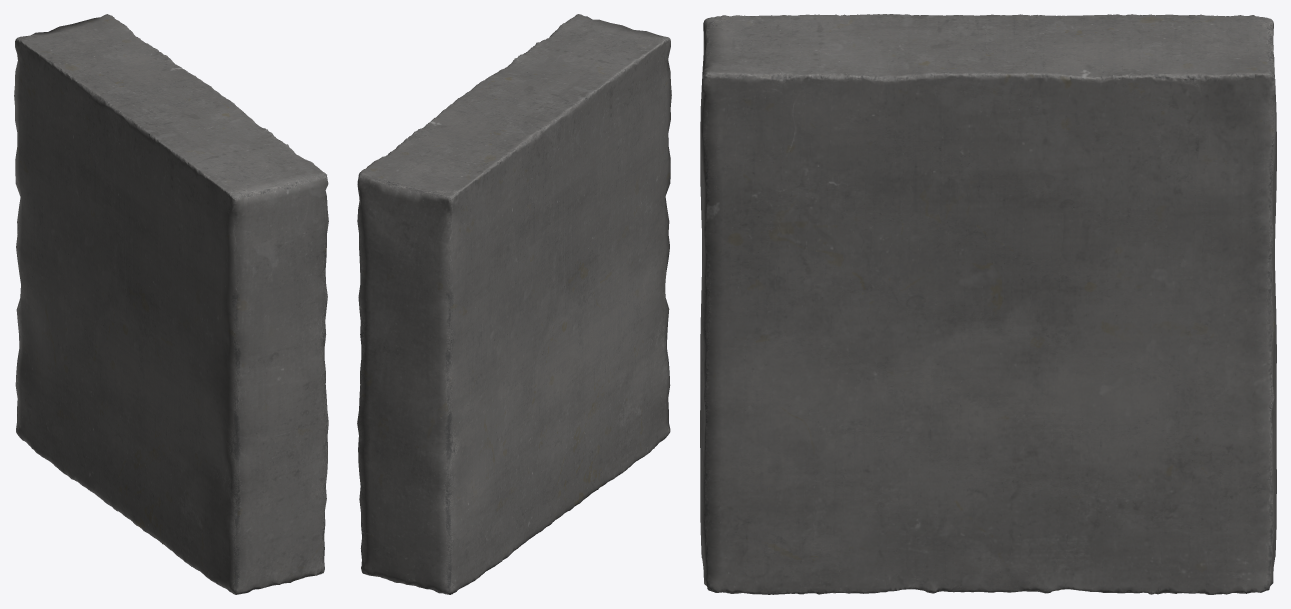
Rendered from SM_Sewer_Wall_Beam_01d.fbx.
3 renders of one model, left to right at view 1: azimuth 30°, elevation 25°; view 2: azimuth 150°, elevation 25°; view 3: azimuth 270°, elevation 25°, orthographic. The views are drawn at different scales.
Visible parts, largest first — view 1: SM_Sewer_Wall_Beam_01d_LOD0; view 2: SM_Sewer_Wall_Beam_01d_LOD0; view 3: SM_Sewer_Wall_Beam_01d_LOD0.
Boxes of the visible parts, box(x1,y1,x2,y2) form: SM_Sewer_Wall_Beam_01d_LOD0: box(14, 14, 328, 594); SM_Sewer_Wall_Beam_01d_LOD0: box(357, 14, 671, 594); SM_Sewer_Wall_Beam_01d_LOD0: box(700, 14, 1276, 594).
Bounding box in the file's own units: 50.33 × 200 × 200.
